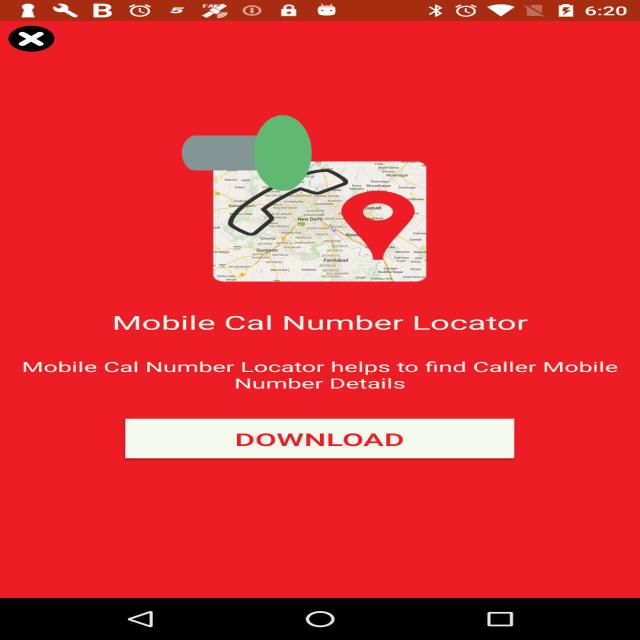social proof: (182, 69, 312, 237)
